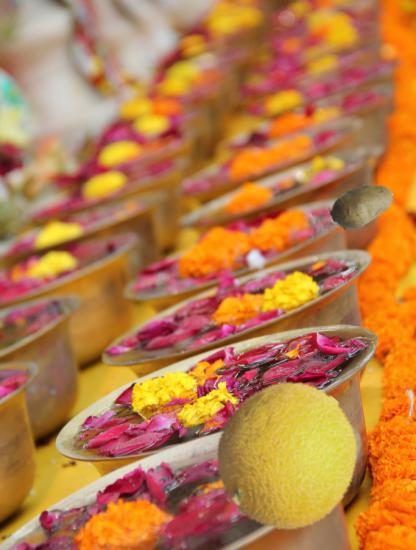Cantaloupe: (214, 382, 362, 530)
Potato: (329, 172, 395, 238)
